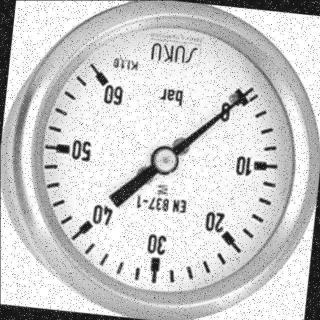gauge: (0, 0, 320, 320), (216, 78, 258, 125), (88, 62, 120, 96), (150, 146, 178, 176), (241, 80, 261, 97)
